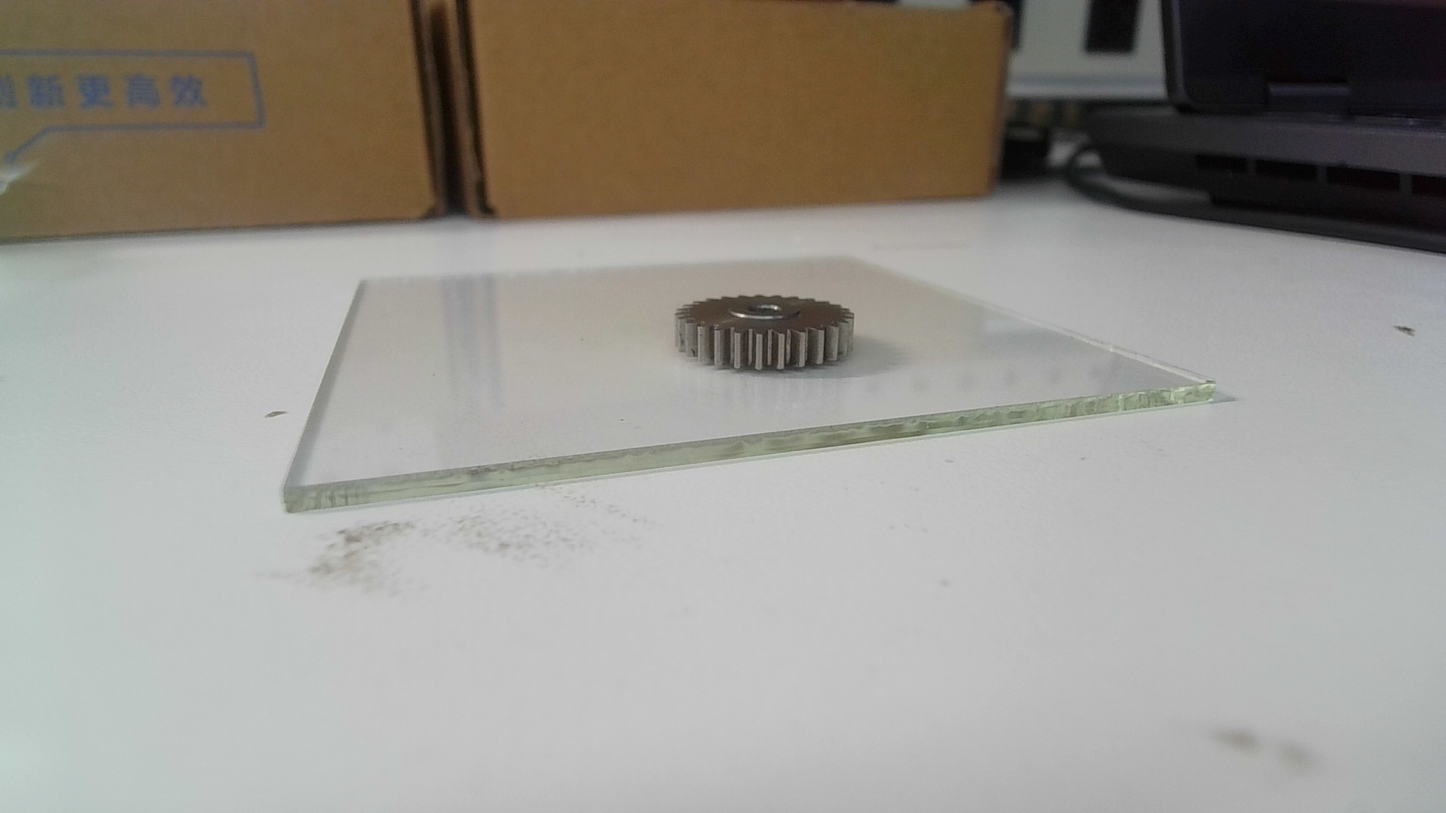gear: (670, 292, 859, 376)
